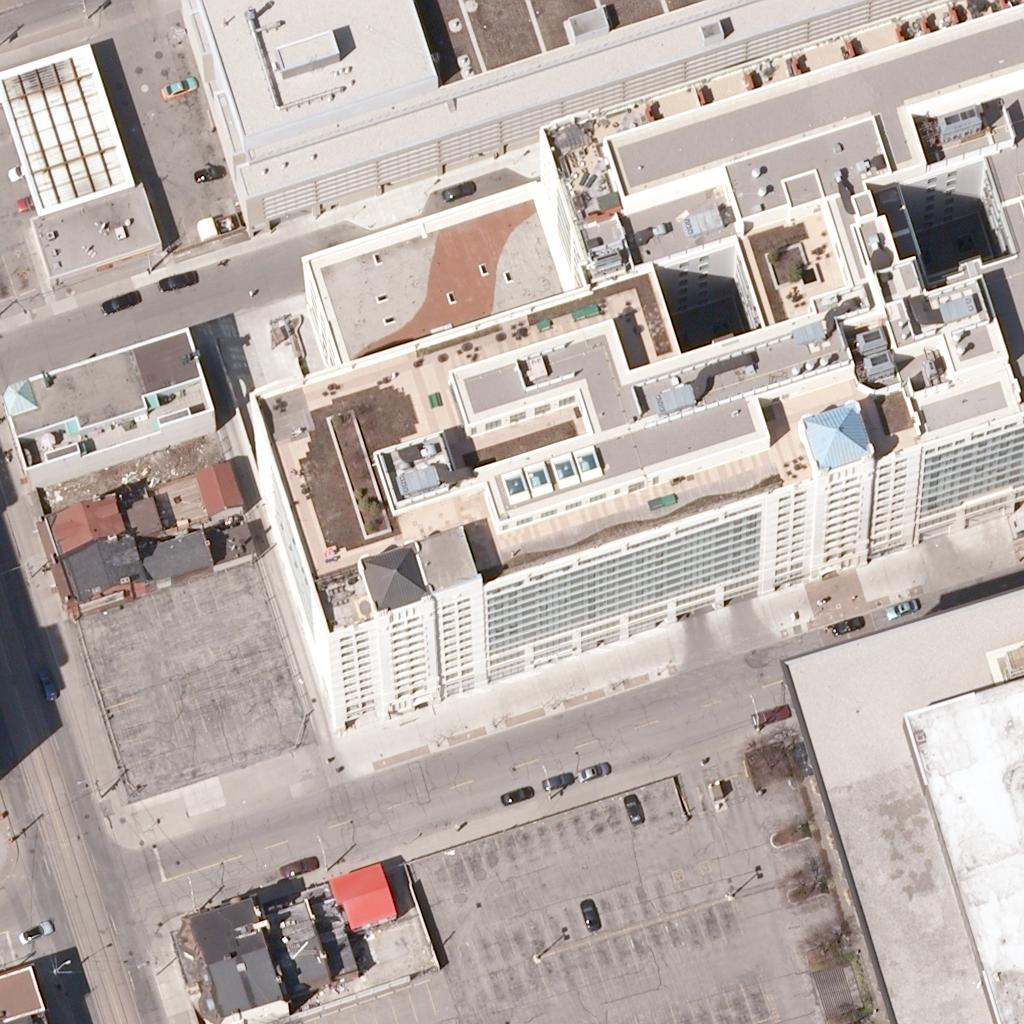car: (161, 66, 195, 100), (4, 152, 38, 186), (192, 152, 226, 186), (438, 172, 472, 206), (14, 183, 48, 217), (161, 261, 195, 295), (103, 283, 137, 317), (885, 589, 919, 623), (886, 589, 920, 623), (828, 606, 862, 640), (30, 666, 64, 700), (751, 698, 785, 732), (573, 752, 607, 786), (539, 762, 573, 796), (495, 776, 529, 810), (496, 776, 530, 810), (615, 791, 649, 825), (280, 849, 314, 883), (573, 895, 607, 929), (18, 912, 52, 946), (15, 913, 49, 947)
